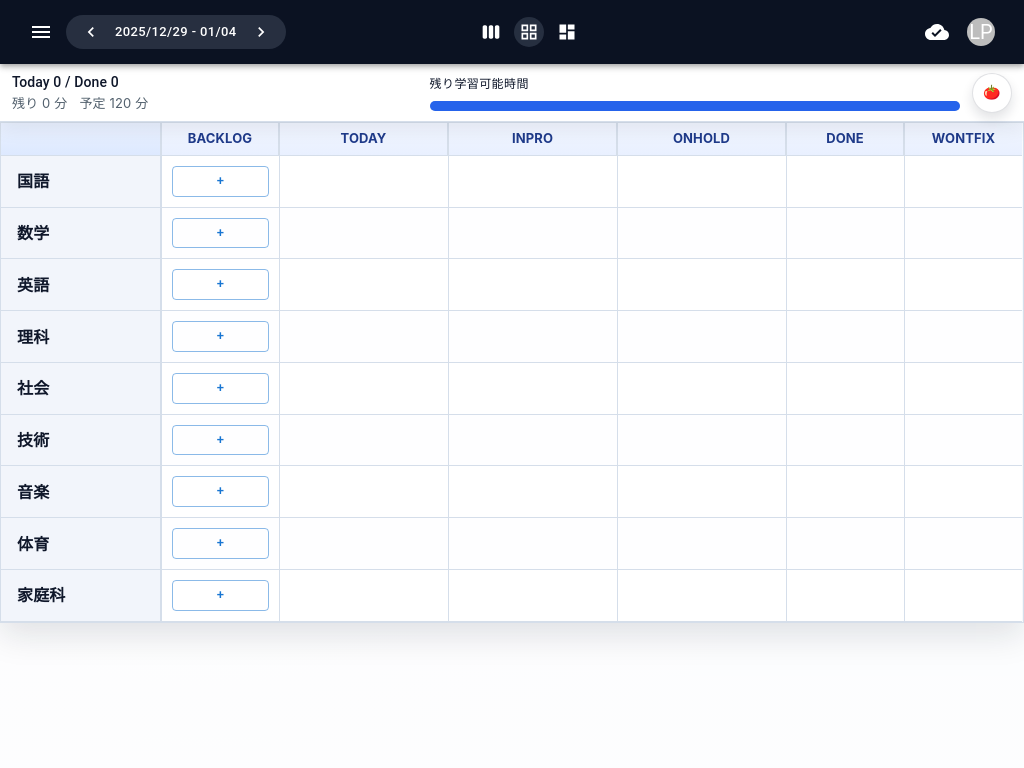
Scenario: sync status クリックで同期状態ダイアログを開く
Click the button named "同期状態": (937, 32) 920,15 -> 954,49
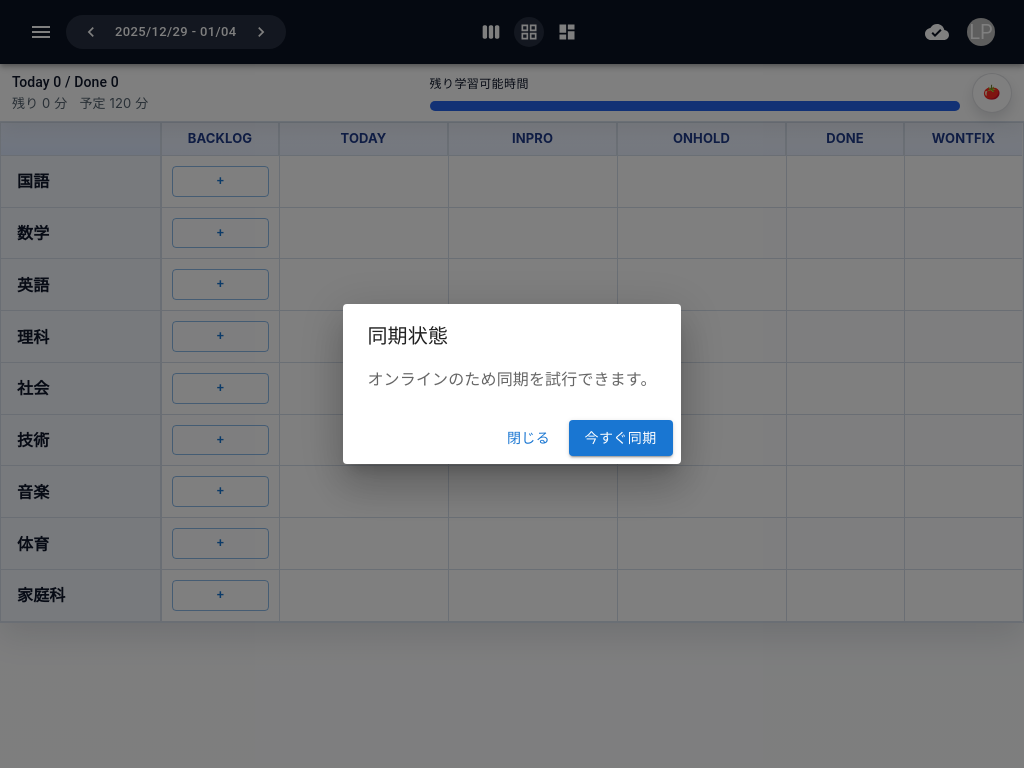
Expected: the heading "同期状態" is shown, 367,324 -> 448,348
